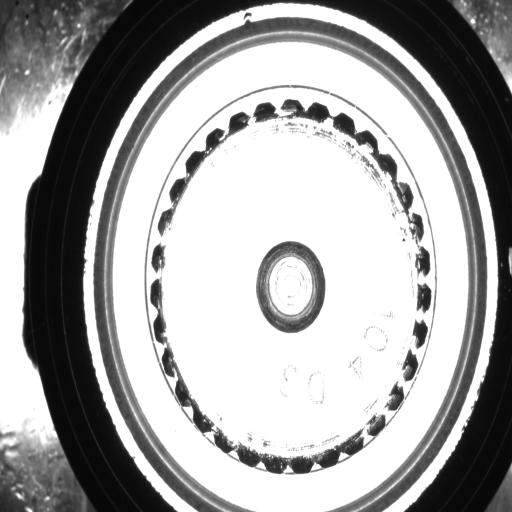gear: (148, 94, 432, 476)
